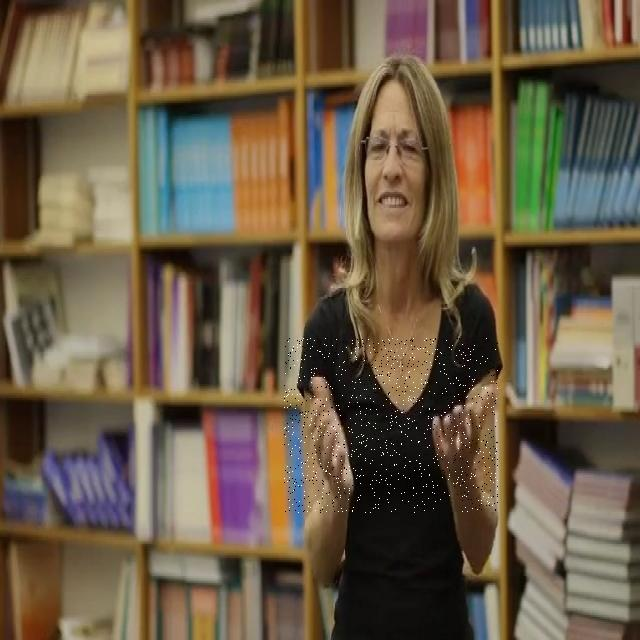what: (284, 338, 498, 513)
